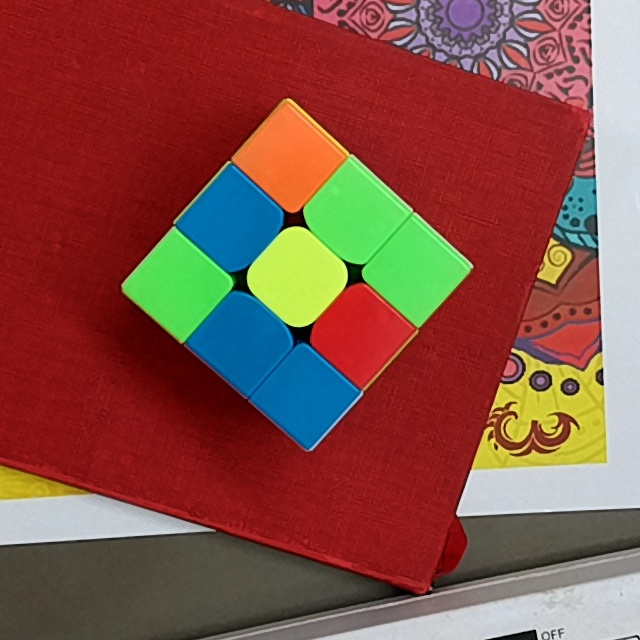tile: (204, 192, 261, 249), (328, 184, 383, 243), (268, 249, 325, 305), (150, 258, 206, 315), (214, 312, 272, 367), (261, 130, 318, 184), (332, 308, 388, 361), (279, 371, 335, 421), (390, 244, 441, 298)
